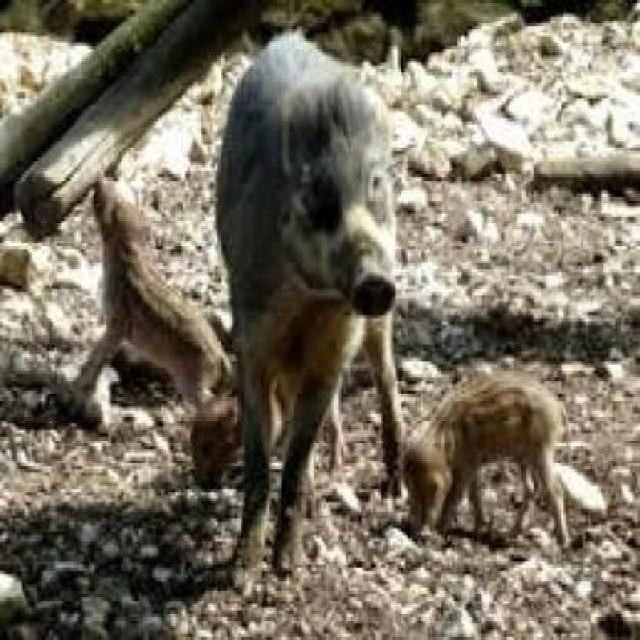wildboar: (213, 24, 416, 598), (70, 168, 252, 448), (388, 368, 580, 563)
